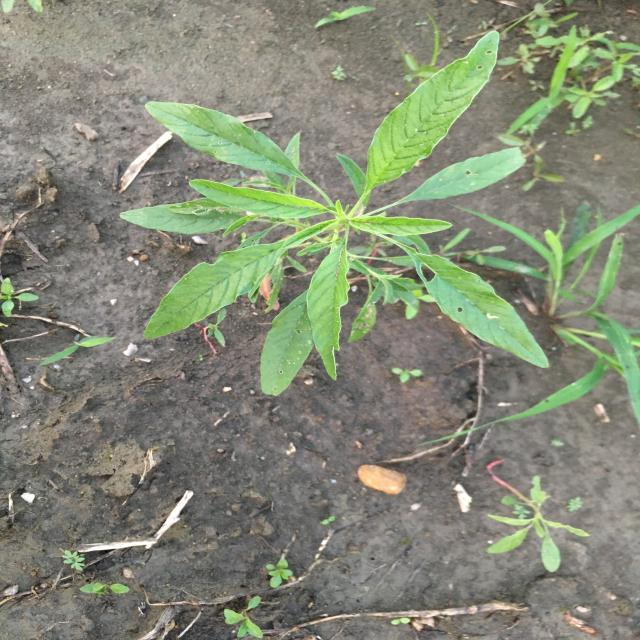Waterhemp: (117, 29, 552, 399), (479, 462, 593, 576)
